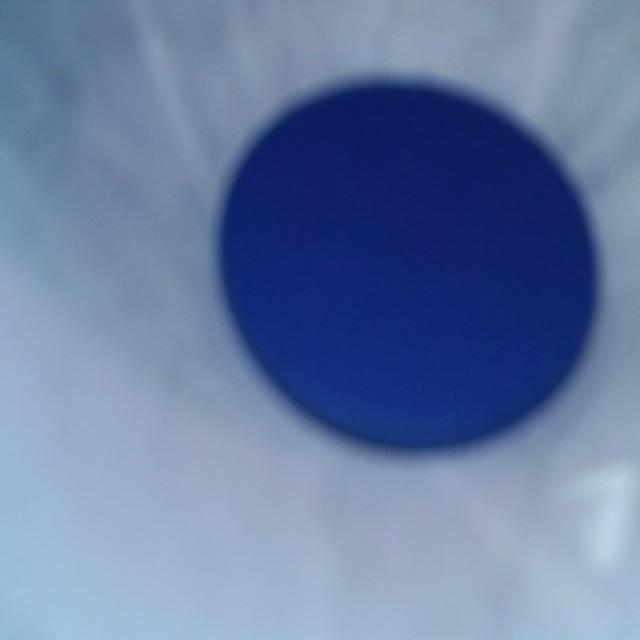circle: (223, 84, 594, 448)
